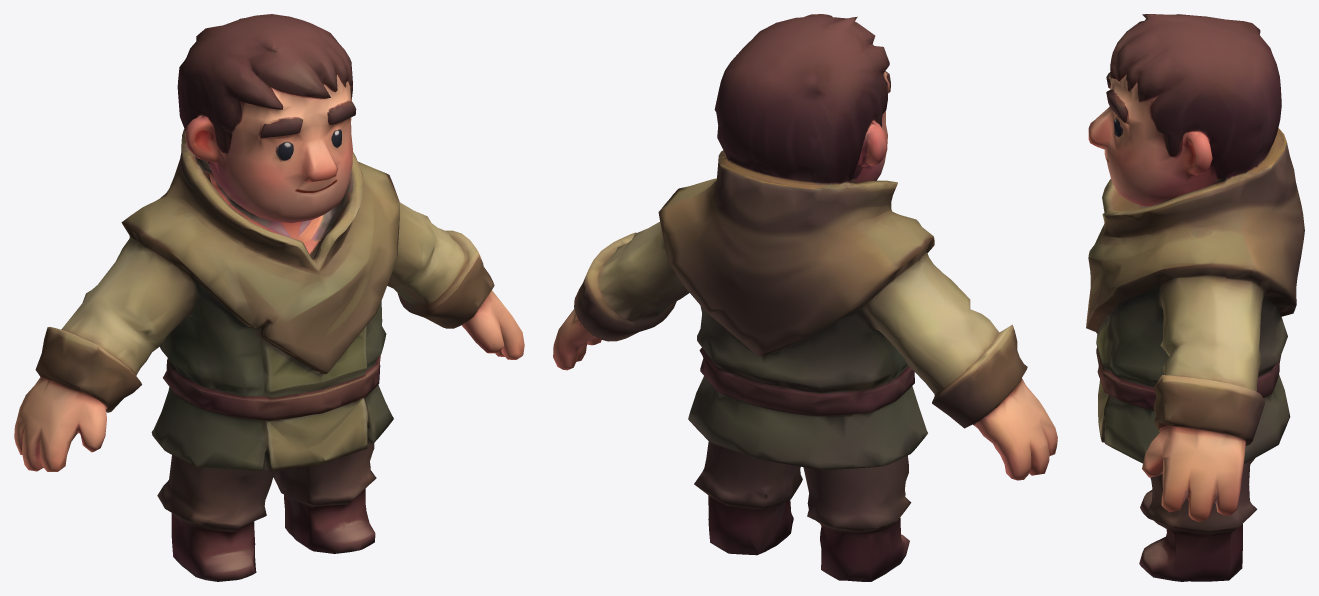
The model's file is character.glb.
3 renders of one model, left to right at view 1: azimuth 30°, elevation 25°; view 2: azimuth 150°, elevation 25°; view 3: azimuth 270°, elevation 25°, orthographic.
Size of the model in its own units: 1.84 by 1.91 by 0.7328.
1 material, 1 textured.
